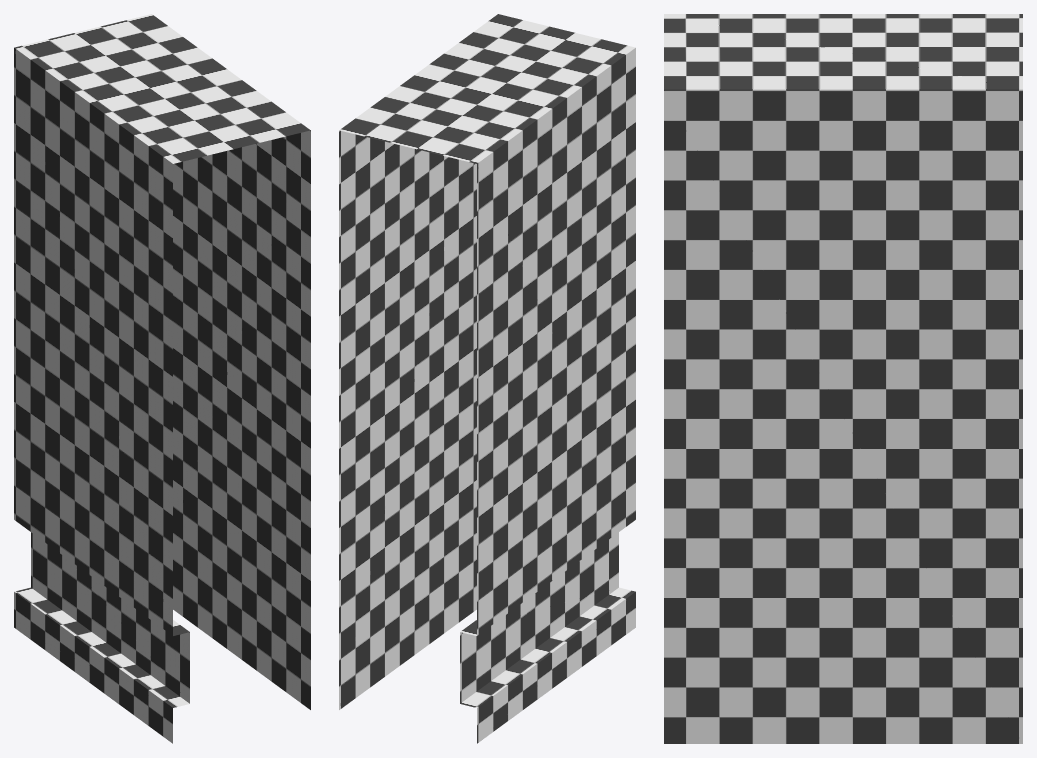
File: Wall_Left.fbx
The picture shows the model from 3 angles, left to right: view 1: azimuth 30°, elevation 25°; view 2: azimuth 150°, elevation 25°; view 3: azimuth 270°, elevation 25°; orthographic projection. The views are drawn at different scales.
Visible parts, largest first — view 1: Wall_Left; view 2: Wall_Left; view 3: Wall_Left.
Boxes of the visible parts, x1,y1,x2,y2 form: Wall_Left: (14,14,310,743); Wall_Left: (339,14,635,743); Wall_Left: (664,14,1022,743).
Bounding box in the file's own units: 50 × 201 × 100.
1 material, 1 textured.
